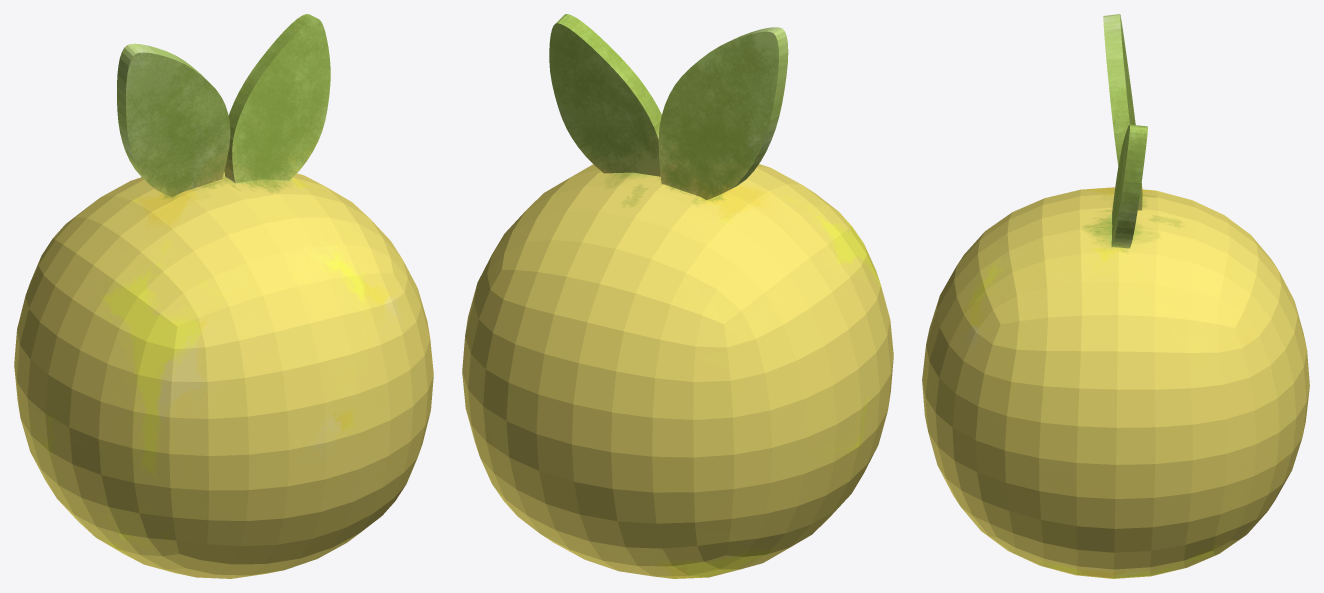
The picture shows the model from 3 angles, left to right: view 1: azimuth 30°, elevation 25°; view 2: azimuth 150°, elevation 25°; view 3: azimuth 270°, elevation 25°; orthographic projection. The views are drawn at different scales.
Parts seen in each view (by area): view 1: 立方体; view 2: 立方体; view 3: 立方体.
Part boxes in pixels (left/top/right/bottom): 立方体: left=14, top=14, right=433, bottom=578; 立方体: left=462, top=14, right=893, bottom=578; 立方体: left=922, top=14, right=1309, bottom=578.
Size of the model in its own units: 160 by 229 by 160.
